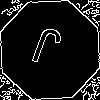J: (25, 25, 65, 77)
